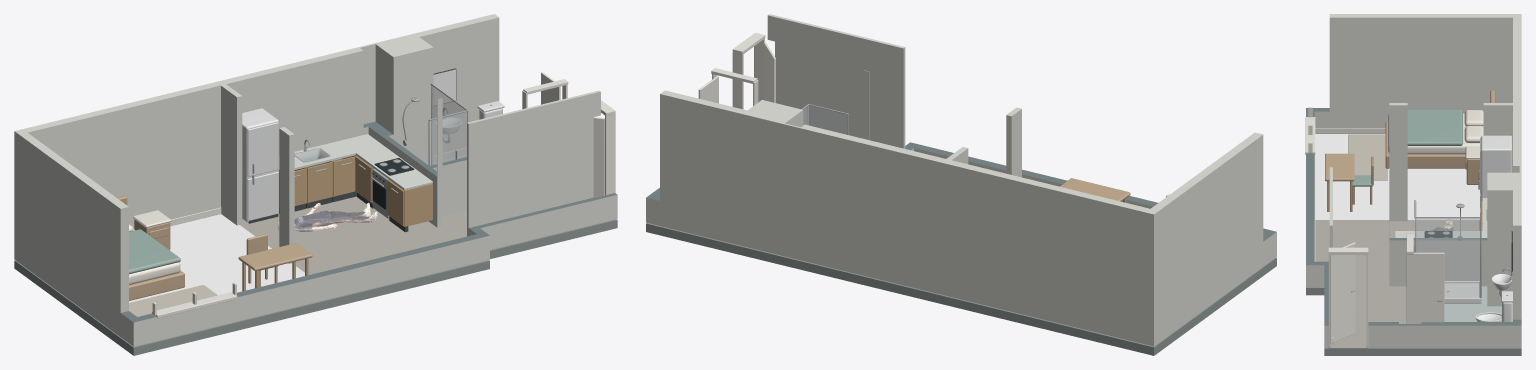
The model's file is apartment-111.glb.
The picture shows the model from 3 angles, left to right: view 1: azimuth 30°, elevation 25°; view 2: azimuth 150°, elevation 25°; view 3: azimuth 270°, elevation 25°; orthographic projection. The views are drawn at different scales.
Visible parts, largest first — view 1: 111 | Derived cutaway shell, 111 | Continuous floor slab, 111C | Studio finish, 111B | Kitchen finish, 111 | Entry finish, Shower | glass side, Refrigerator | upper door, Bedroom | duvet, Shower | front glazing, Refrigerator | lower door, Person | 6 ft 3 in | lying on kitchen floor, North counter | sink opening (+16 smaller); view 2: 111 | Derived cutaway shell, 111 | Continuous floor slab, Shower | front glazing, Bedroom | desk top, Entry door | leaf, Entry | jamb.001, Entry | jamb; view 3: 111 | Derived cutaway shell, 111C | Studio finish, 111 | Entry finish, Shower | glass side, Bathroom door | leaf, Entry door | leaf, Bedroom | duvet, 111 | Continuous floor slab, Bedroom | rug, Refrigerator | body, Bedroom | bed frame, 111A | Bathroom finish (+21 smaller).
Part boxes in pixels (<box>): 111 | Derived cutaway shell: <box>14,14,617,346</box>; 111 | Continuous floor slab: <box>14,219,617,355</box>; 111C | Studio finish: <box>129,214,304,302</box>; 111B | Kitchen finish: <box>240,196,434,256</box>; 111 | Entry finish: <box>296,211,466,274</box>; Shower | glass side: <box>432,86,466,164</box>; Refrigerator | upper door: <box>247,122,278,176</box>; Bedroom | duvet: <box>129,229,180,274</box>; Shower | front glazing: <box>430,112,466,165</box>; Refrigerator | lower door: <box>247,172,278,222</box>; Person | 6 ft 3 in | lying on kitchen floor: <box>277,202,377,231</box>; North counter | sink opening: <box>279,134,383,171</box>; 111 | Derived cutaway shell: <box>646,14,1276,346</box>; 111 | Continuous floor slab: <box>646,223,1276,355</box>; Shower | front glazing: <box>809,105,846,134</box>; Bedroom | desk top: <box>1060,178,1130,201</box>; Entry door | leaf: <box>763,42,775,102</box>; Entry | jamb.001: <box>732,53,743,109</box>; Entry | jamb: <box>754,37,764,102</box>; 111 | Derived cutaway shell: <box>1306,14,1521,347</box>; 111C | Studio finish: <box>1315,134,1479,219</box>; 111 | Entry finish: <box>1315,220,1406,343</box>; Shower | glass side: <box>1416,218,1479,297</box>; Bathroom door | leaf: <box>1413,252,1444,323</box>; Entry door | leaf: <box>1330,242,1355,343</box>; Bedroom | duvet: <box>1407,109,1462,145</box>; 111 | Continuous floor slab: <box>1306,287,1521,355</box>; Bedroom | rug: <box>1348,134,1387,180</box>; Refrigerator | body: <box>1481,135,1511,216</box>; Bedroom | bed frame: <box>1385,121,1465,168</box>; 111A | Bathroom finish: <box>1444,286,1501,321</box>.
Bounding box in the file's own units: 10.69 × 2.84 × 4.48.
